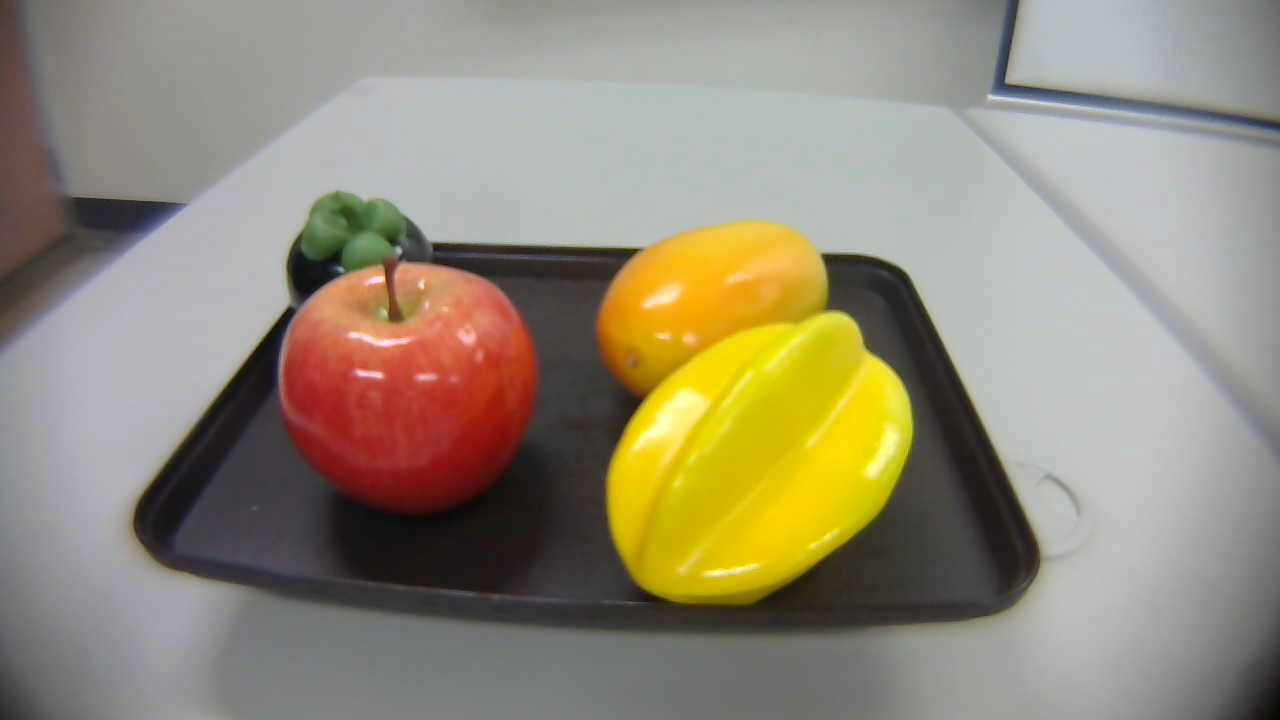mangosteen: (267, 184, 453, 318)
red apple: (250, 259, 540, 516)
star fruit: (588, 311, 925, 603)
yellow mango: (593, 213, 832, 399)
